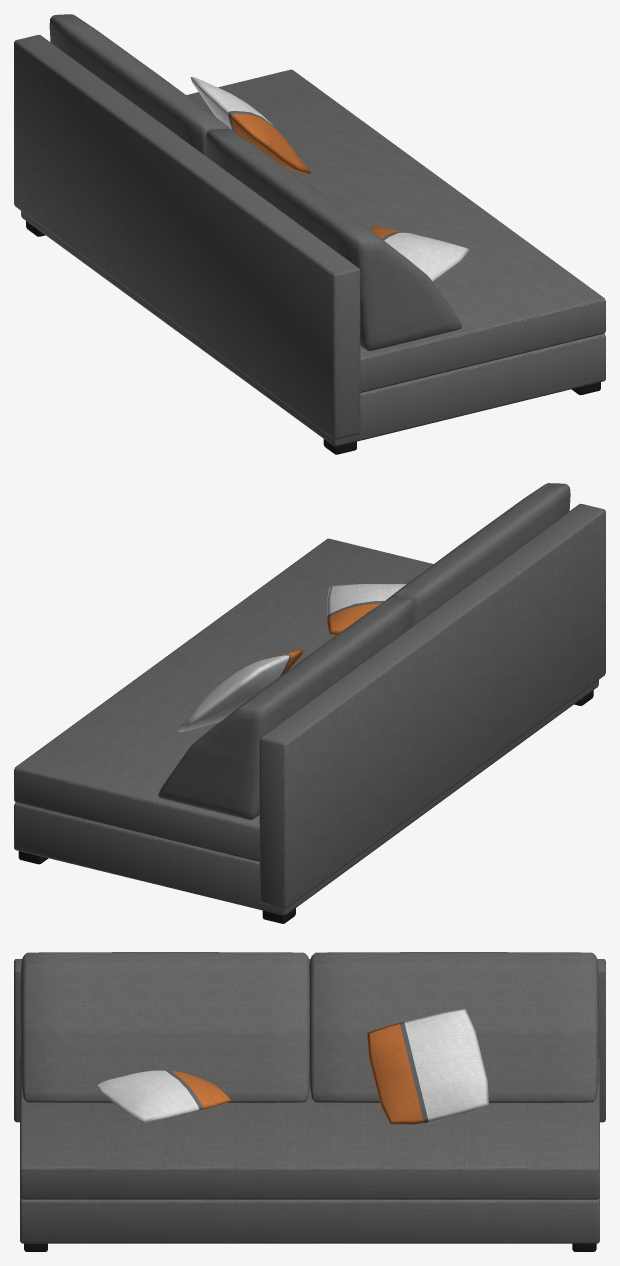
File: sofa.FBX
The picture shows the model from 3 angles, top to bottom: view 1: azimuth 30°, elevation 25°; view 2: azimuth 150°, elevation 25°; view 3: azimuth 270°, elevation 25°; orthographic projection. The views are drawn at different scales.
Visible parts, largest first — view 1: canapeGris, coussin5, coussin4; view 2: canapeGris, coussin5, coussin4; view 3: canapeGris, coussin5, coussin4.
Part boxes in pixels (bbox=[...]): canapeGris: bbox=[14, 14, 605, 454]; coussin5: bbox=[190, 77, 310, 173]; coussin4: bbox=[370, 226, 469, 281]; canapeGris: bbox=[14, 483, 605, 923]; coussin5: bbox=[178, 649, 303, 731]; coussin4: bbox=[327, 584, 406, 635]; canapeGris: bbox=[14, 952, 605, 1251]; coussin5: bbox=[367, 1009, 488, 1124]; coussin4: bbox=[95, 1070, 231, 1122].
Size of the model in its own units: 122 by 88.1 by 245.
